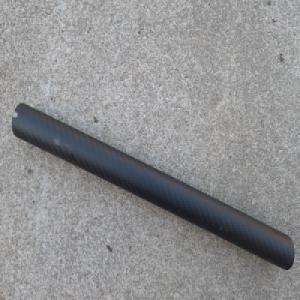LuggagePart: (11, 101, 295, 271)
